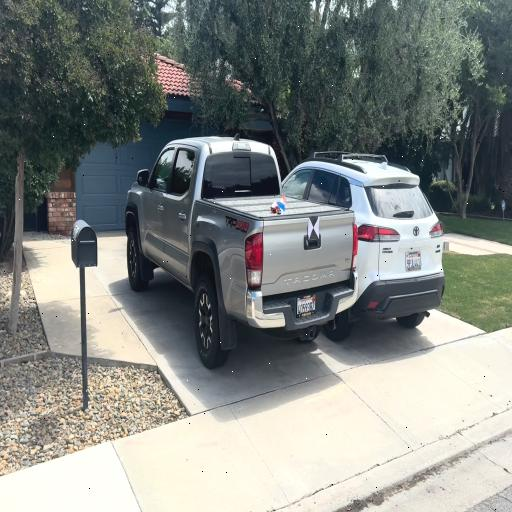target: (308, 216, 320, 240)
